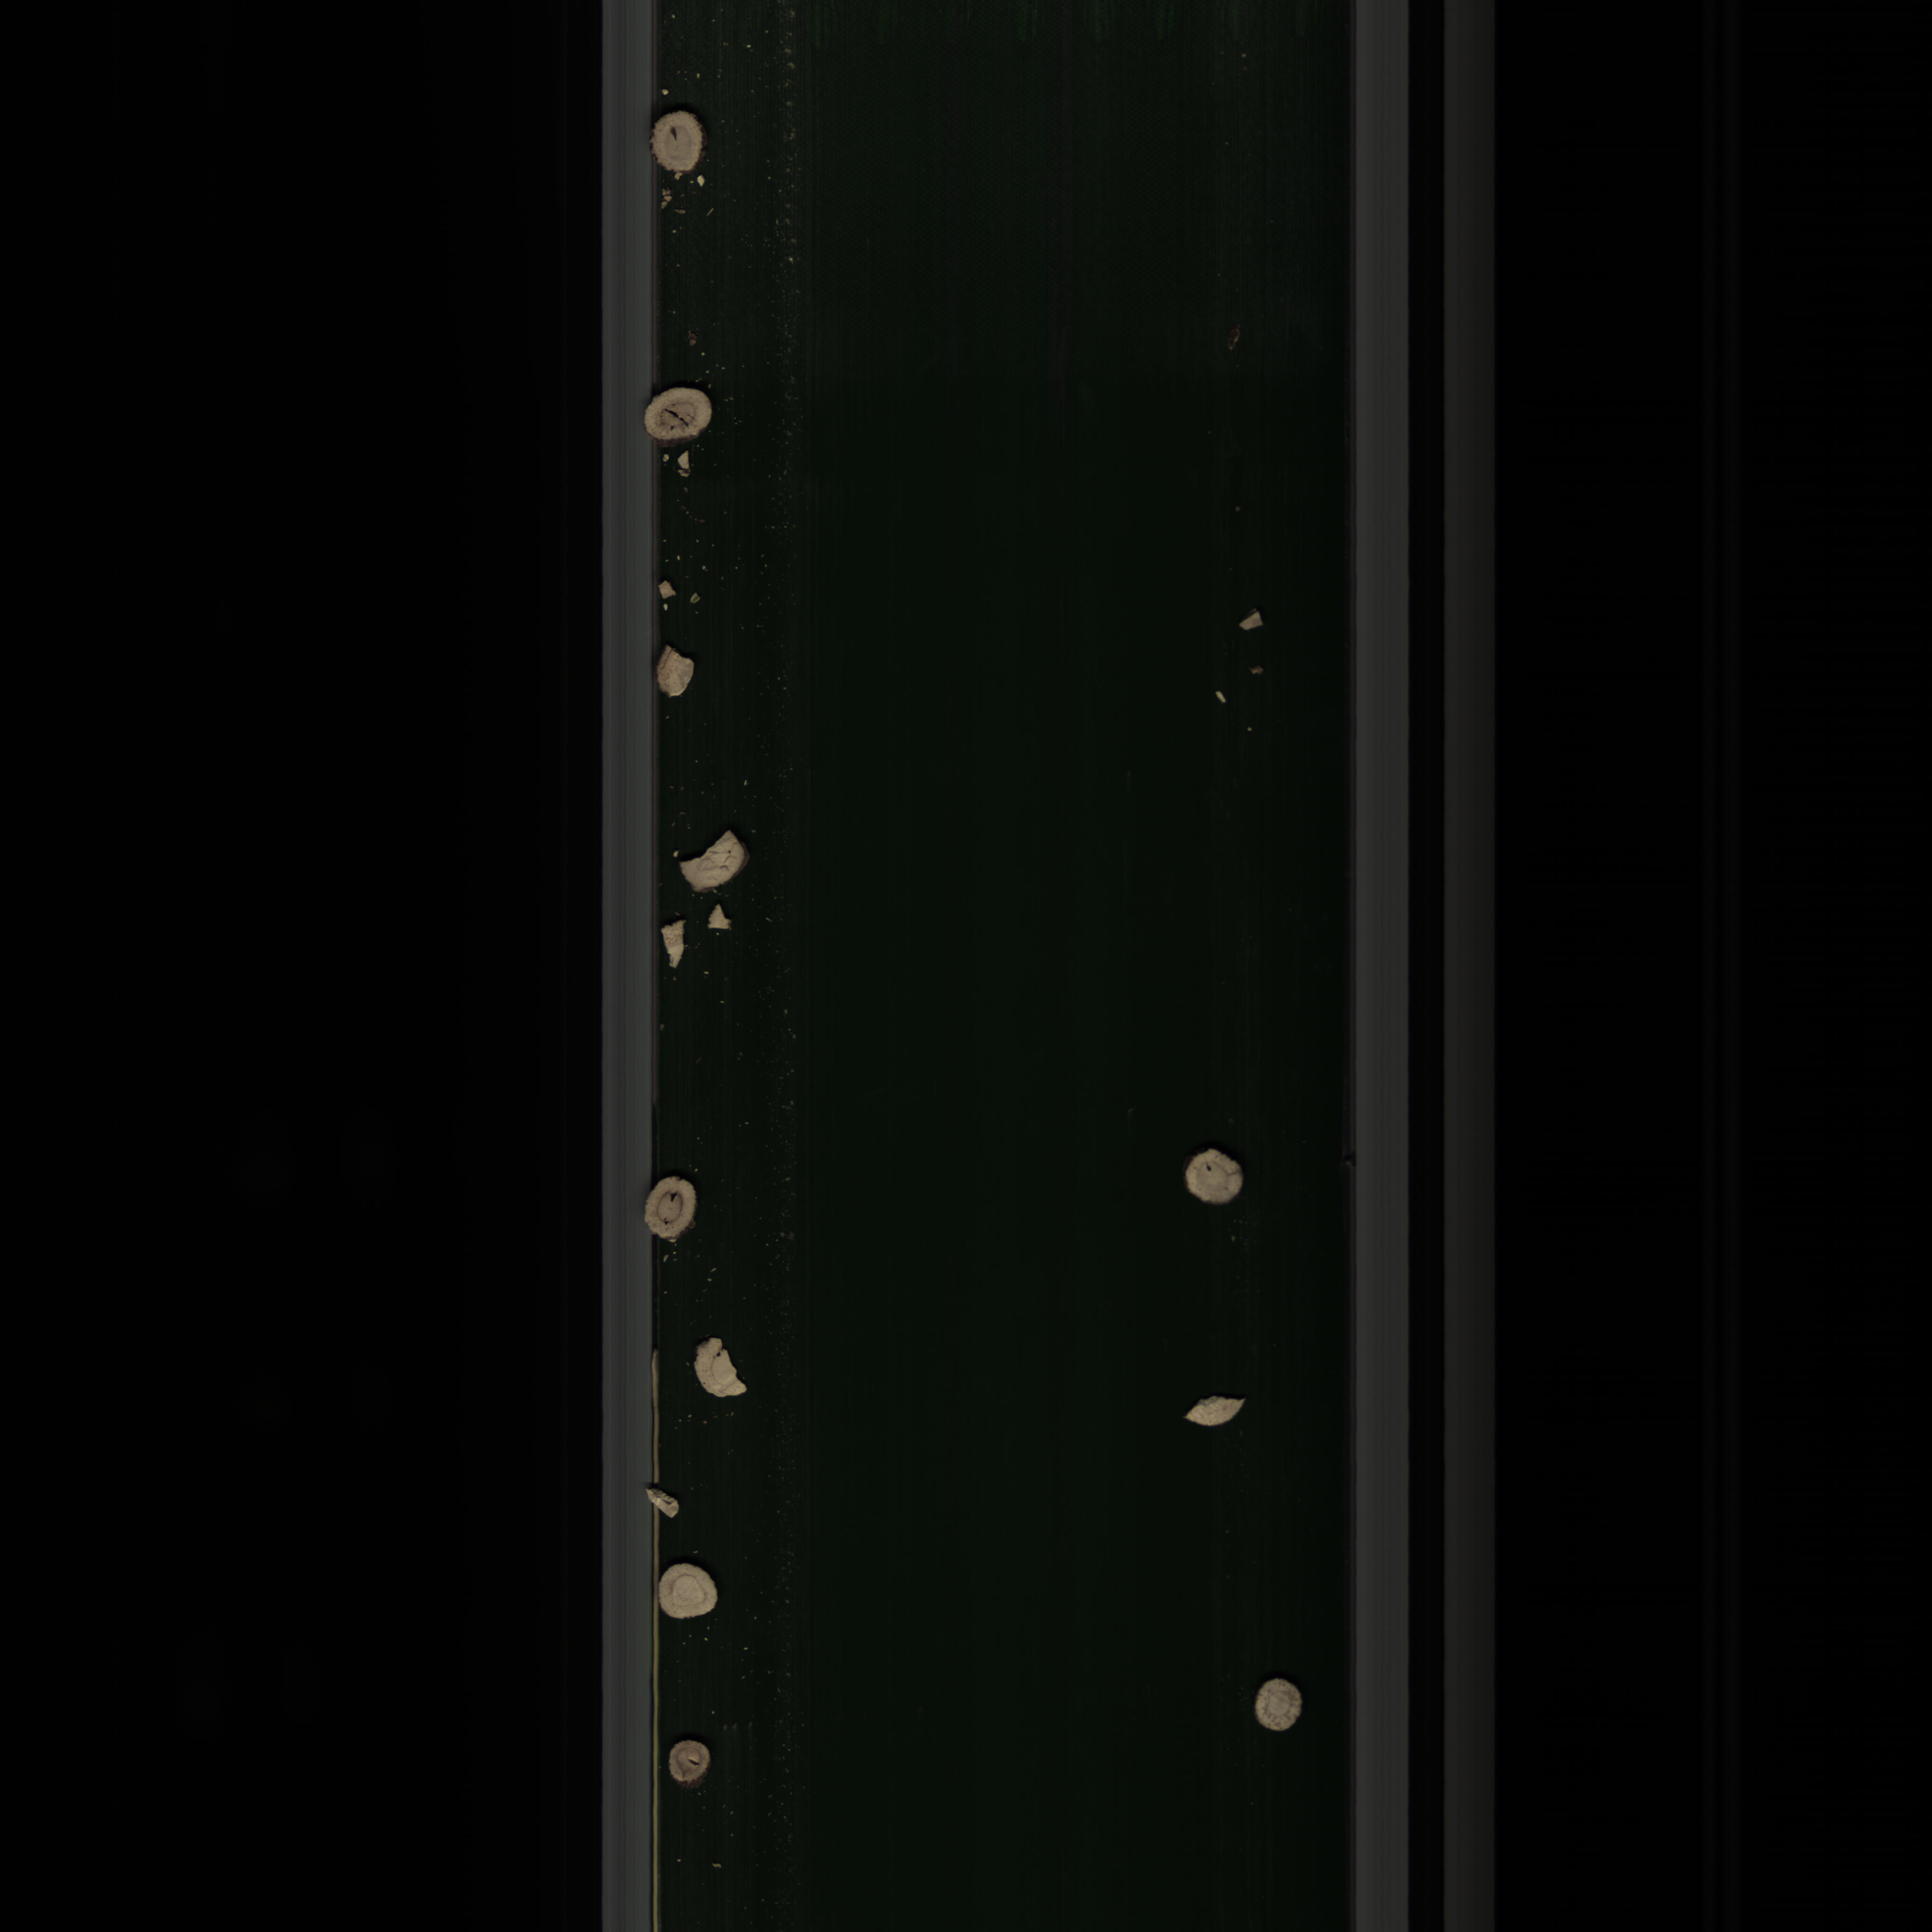debris: (672, 824, 754, 895), (690, 1334, 759, 1407), (1180, 1389, 1253, 1442), (655, 640, 702, 701), (640, 1476, 694, 1525), (658, 915, 694, 973), (1233, 605, 1267, 637), (704, 906, 736, 936)
hole: (640, 1175, 718, 1256), (1180, 1145, 1253, 1215), (640, 380, 725, 441), (649, 106, 713, 175), (667, 1736, 722, 1792)
